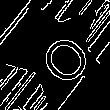O_NW: (24, 19, 90, 85)
